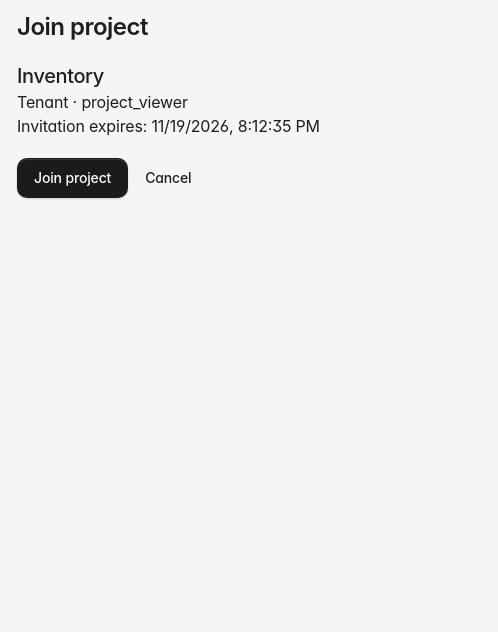
Test case: returns an expired ownership proof to account sign-in without password recovery
Click the button "Join project".
click(73, 178)  # box [17,158,128,198]
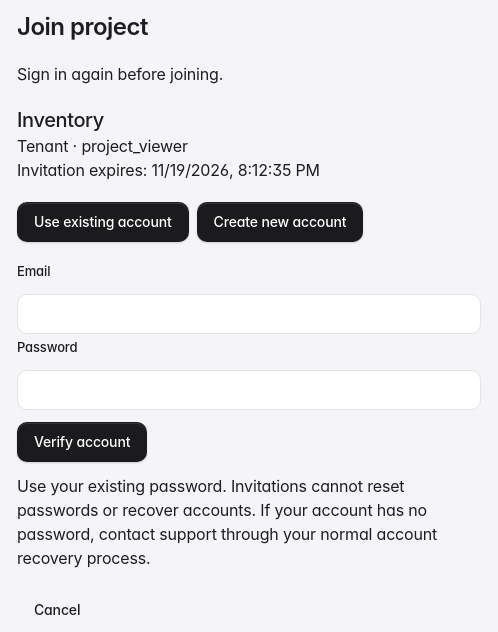
Expected: the button "Verify account" is shown, [17,422,147,462]
Expected: the text "Invitations cannot reset passwords" is shown, [17,476,437,568]
